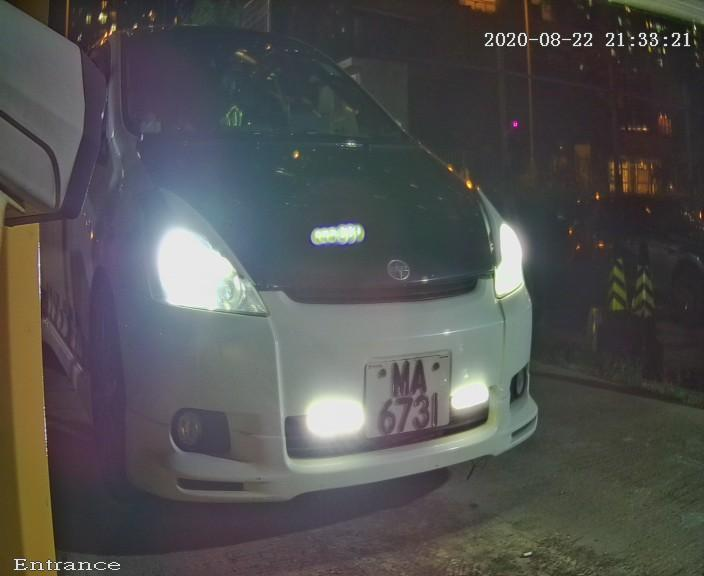Car: (29, 6, 598, 553)
License Plate: (337, 332, 485, 460)
